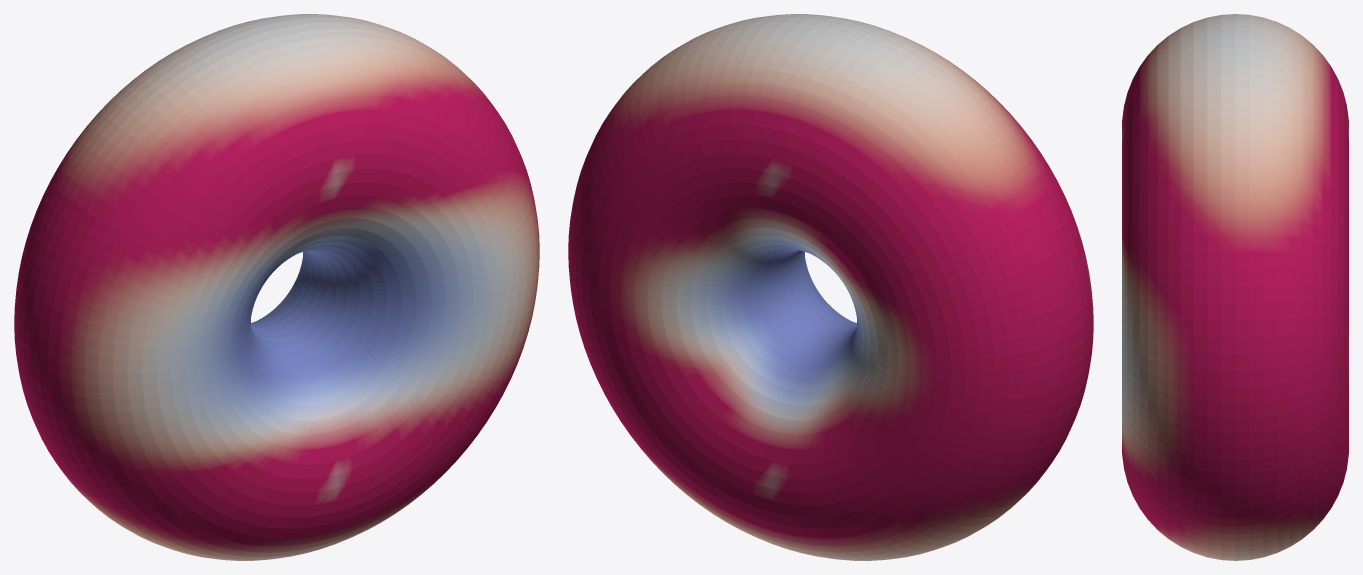
3 views of the same model, side by side, from view 1: azimuth 30°, elevation 25°; view 2: azimuth 150°, elevation 25°; view 3: azimuth 270°, elevation 25° (orthographic). The views are drawn at different scales.
Parts seen in each view (by area): view 1: world; view 2: world; view 3: world.
Boxes of the visible parts, x1,y1,x2,y2 form: world: (14,14,539,560); world: (568,14,1093,560); world: (1122,14,1348,560).
Bounding box in the file's own units: 22.8 × 22.8 × 9.45.
